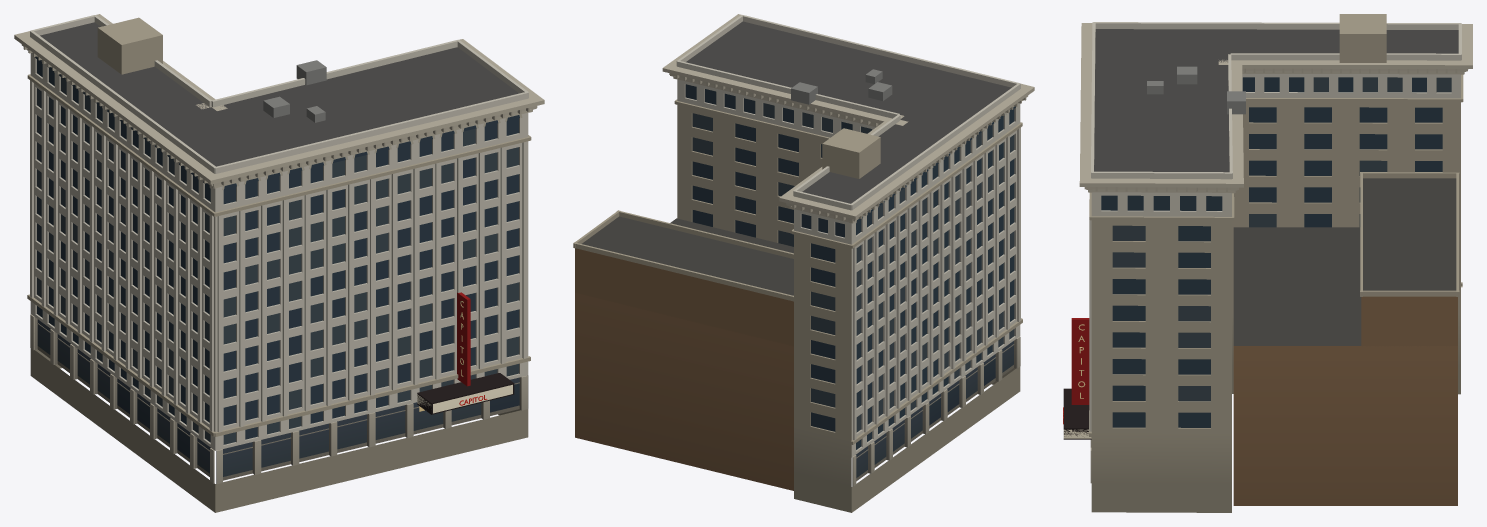
Rendered from kahl.glb.
3 views of the same model, side by side, from view 1: azimuth 30°, elevation 25°; view 2: azimuth 150°, elevation 25°; view 3: azimuth 270°, elevation 25° (orthographic). The views are drawn at different scales.
Visible parts, largest first — view 1: kahl_lod0; view 2: kahl_lod0; view 3: kahl_lod0.
Part boxes in pixels (x1=…): kahl_lod0: x1=14, y1=14, x2=544, y2=512; kahl_lod0: x1=573, y1=14, x2=1034, y2=512; kahl_lod0: x1=1063, y1=14, x2=1472, y2=512.
Size of what is drawn, in the model's own units: 48.53 by 51.1 by 52.26.
